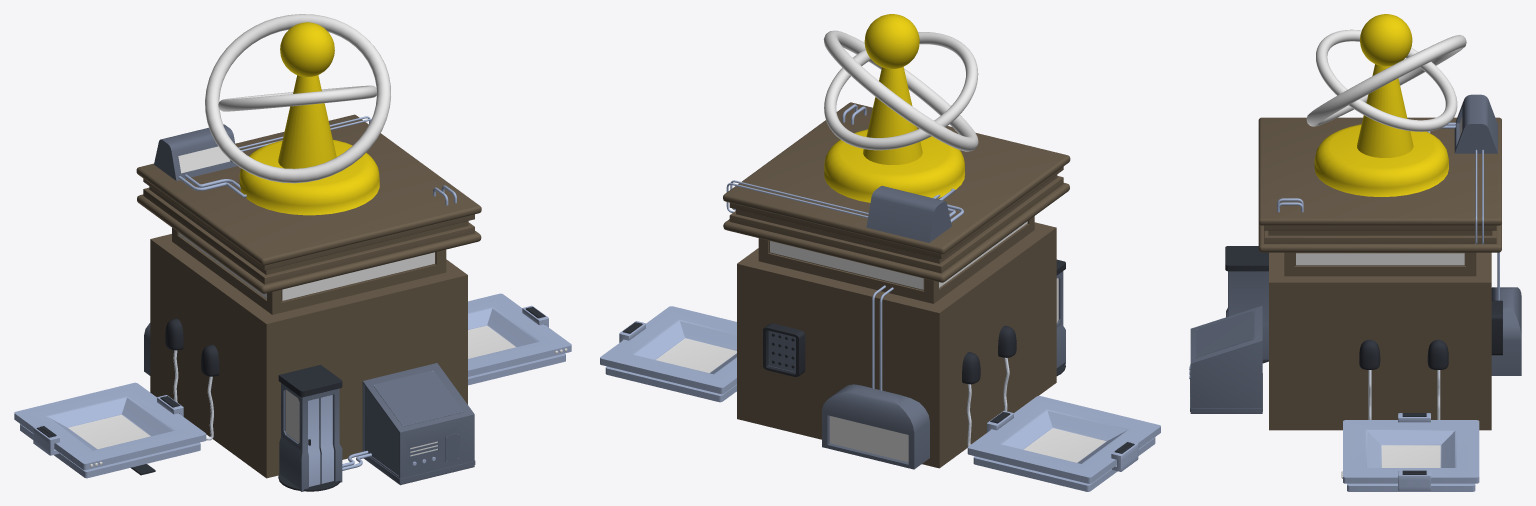
Rendered from portal_2.fbx.
The picture shows the model from 3 angles, left to right: view 1: azimuth 30°, elevation 25°; view 2: azimuth 150°, elevation 25°; view 3: azimuth 270°, elevation 25°; orthographic projection. The views are drawn at different scales.
Visible parts, largest first — view 1: building, power machines, portal 2, tower top, Orbs, electricity door, portals.002, WIRES, tubes; view 2: building, portal 2, tower top, portals.002, Orbs, power machines.001, power machines, tubes, power box, WIRES, electricity door; view 3: building, tower top, portals.002, power machines, Orbs, electricity door, power machines.001, WIRES, tubes, power box.
Part boxes in pixels (bbox=[...]): building: bbox=[136, 114, 481, 478]; power machines: bbox=[154, 124, 475, 485]; portal 2: bbox=[14, 382, 206, 478]; tower top: bbox=[239, 22, 379, 215]; Orbs: bbox=[205, 14, 390, 183]; electricity door: bbox=[278, 365, 342, 491]; portals.002: bbox=[468, 293, 571, 385]; WIRES: bbox=[165, 318, 219, 440]; tubes: bbox=[178, 116, 456, 470]; building: bbox=[723, 102, 1070, 468]; portal 2: bbox=[967, 396, 1160, 491]; tower top: bbox=[824, 14, 964, 202]; portals.002: bbox=[600, 306, 736, 402]; Orbs: bbox=[823, 30, 978, 151]; power machines.001: bbox=[822, 384, 929, 469]; power machines: bbox=[866, 186, 951, 242]; tubes: bbox=[726, 104, 963, 390]; power box: bbox=[763, 323, 805, 376]; WIRES: bbox=[962, 325, 1016, 446]; electricity door: bbox=[1056, 259, 1065, 375]; building: bbox=[1258, 117, 1501, 430]; tower top: bbox=[1314, 14, 1448, 196]; portals.002: bbox=[1341, 413, 1479, 491]; power machines: bbox=[1189, 94, 1497, 413]; Orbs: bbox=[1306, 29, 1466, 131]; electricity door: bbox=[1225, 246, 1268, 363]; power machines.001: bbox=[1491, 287, 1521, 375]; WIRES: bbox=[1359, 339, 1448, 419]; tubes: bbox=[1277, 122, 1499, 300]; power box: bbox=[1491, 300, 1502, 355].
Size of the model in its own units: 1230 by 905 by 741.
